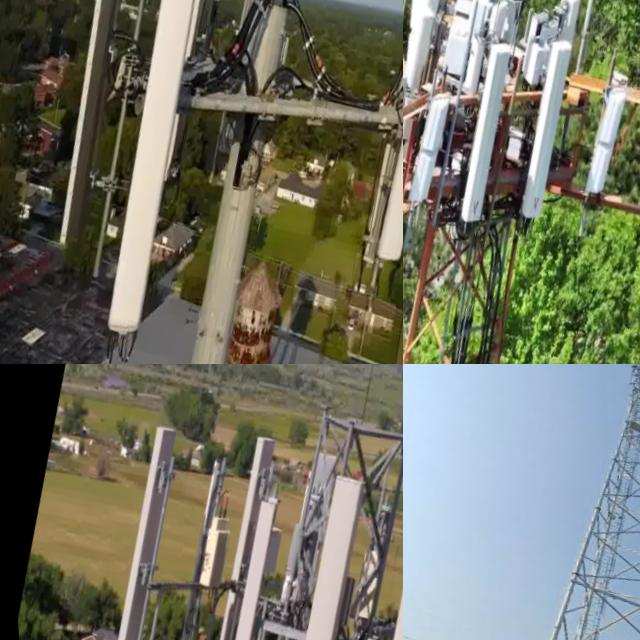GSM Antenna: (49, 0, 259, 348), (0, 0, 196, 261), (246, 463, 398, 640), (72, 429, 199, 640), (172, 438, 285, 640), (421, 42, 527, 255), (490, 41, 591, 244), (333, 0, 403, 284), (198, 497, 301, 640), (558, 85, 637, 218), (403, 94, 454, 224), (346, 545, 403, 640), (403, 0, 453, 97), (403, 74, 421, 201), (621, 364, 640, 378)
